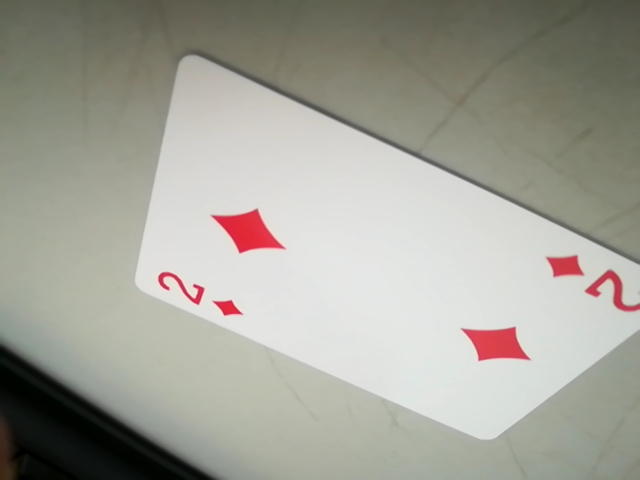fk 2: (539, 248, 640, 321), (150, 265, 252, 322)
